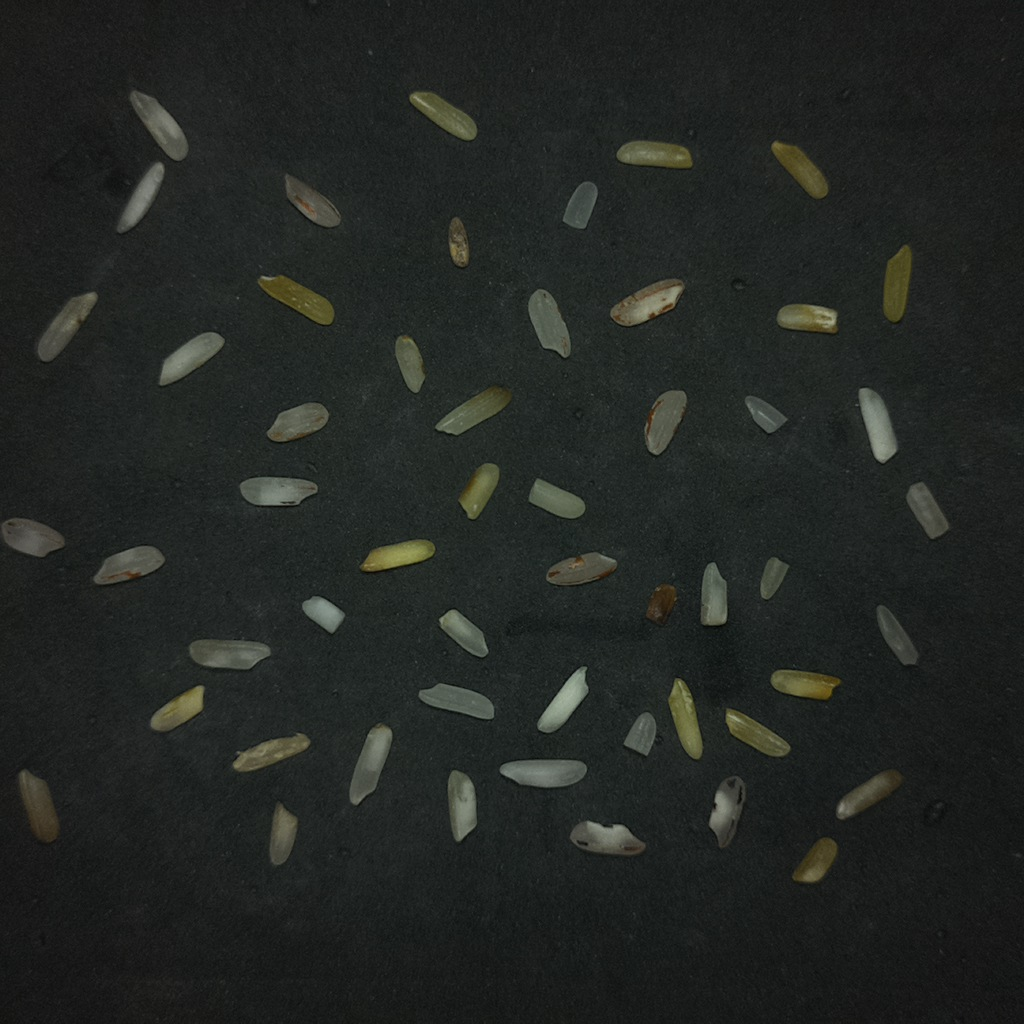broken: (129, 90, 188, 161), (528, 289, 570, 357), (0, 518, 64, 557), (150, 685, 204, 731), (906, 482, 948, 538), (439, 609, 487, 657), (528, 478, 585, 518), (269, 801, 297, 865), (395, 335, 424, 393), (563, 181, 597, 229), (745, 396, 786, 433), (623, 711, 656, 756), (759, 556, 789, 599)
chalky: (158, 332, 224, 386), (537, 666, 589, 734), (116, 162, 164, 233), (858, 387, 897, 463), (499, 759, 586, 787), (239, 477, 317, 506), (447, 770, 476, 842), (700, 562, 728, 626), (302, 595, 344, 633)
damaged: (232, 733, 309, 772), (709, 776, 745, 848), (570, 821, 645, 855), (776, 303, 837, 333), (645, 583, 676, 624), (448, 216, 469, 267)
discolored: (258, 275, 334, 325), (435, 385, 511, 435), (836, 769, 903, 819), (409, 91, 477, 140), (771, 141, 828, 198), (725, 708, 790, 756), (19, 769, 59, 842), (668, 678, 702, 759), (360, 539, 435, 572), (458, 463, 499, 519), (883, 244, 911, 322), (616, 140, 692, 168), (770, 670, 840, 700), (792, 837, 837, 883)
red: (36, 292, 97, 361), (610, 279, 685, 327), (285, 174, 340, 227), (644, 390, 687, 455), (93, 545, 164, 584), (266, 403, 328, 442), (546, 552, 616, 585)
whole: (349, 723, 392, 804), (418, 683, 494, 720), (189, 638, 270, 670), (876, 605, 918, 665)
